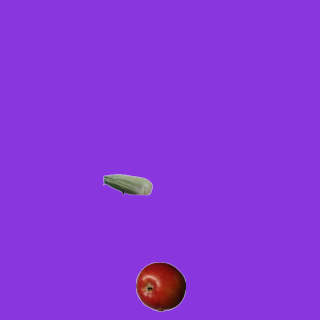Apple Braeburn: (135, 261, 185, 311)
Corn Husk: (102, 159, 152, 209)
